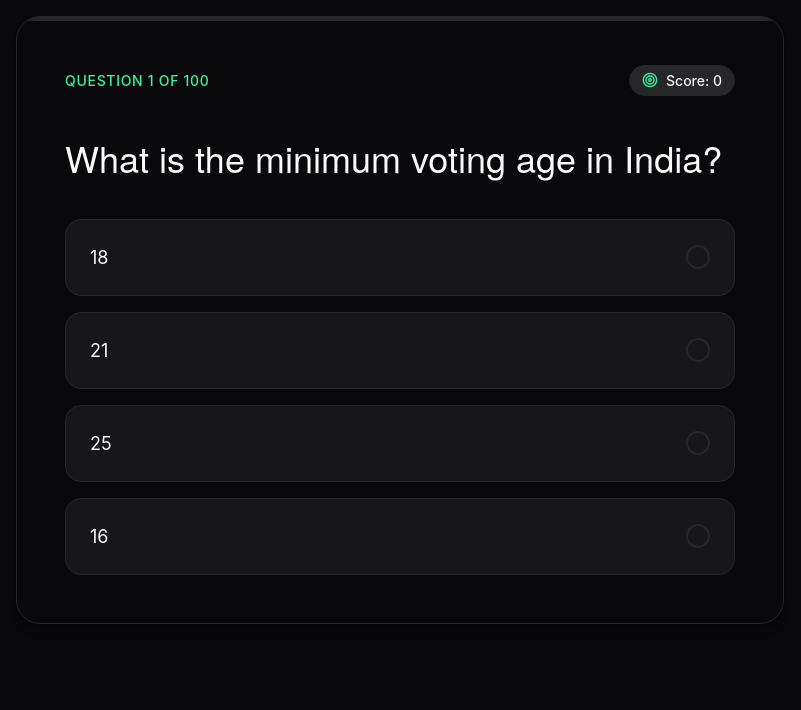
Test: Quiz Component › handles incorrect answer selection
(page scrolled)
Click the button "21".
click(99, 350)  # box [65,312,735,389]
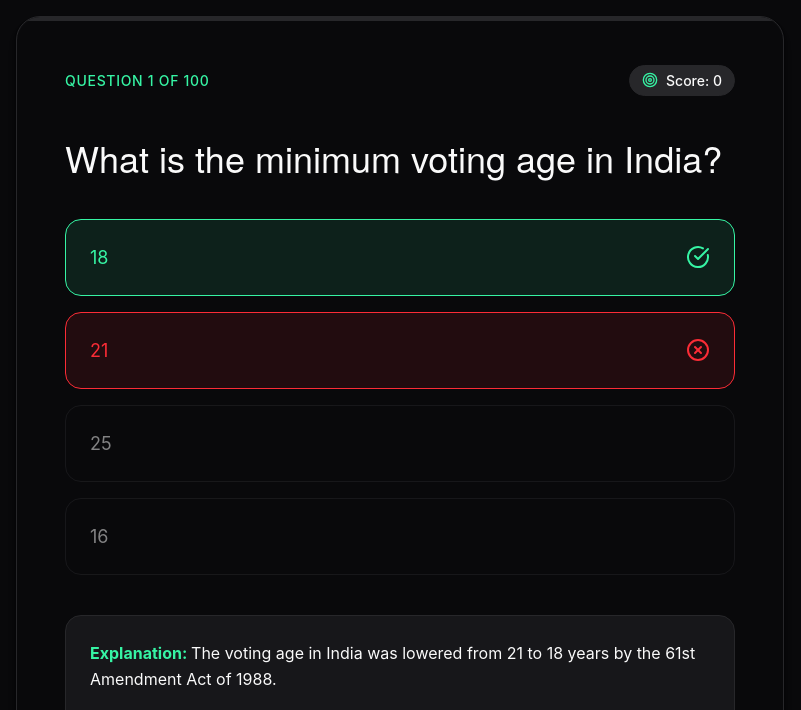
Expected: the text "Score: 0" is shown, [666,70,722,91]
Result: the text "Explanation:" is shown at [90,643,191,663]
